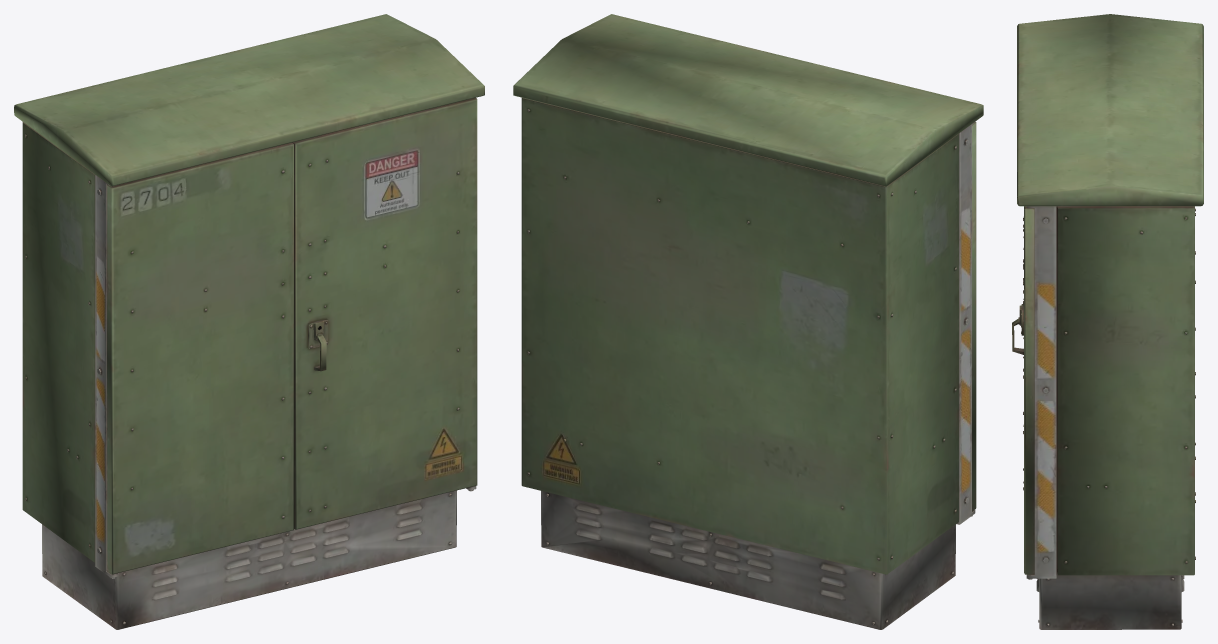
Rendered from utility_box_02.glb.
The picture shows the model from 3 angles, left to right: view 1: azimuth 30°, elevation 25°; view 2: azimuth 150°, elevation 25°; view 3: azimuth 270°, elevation 25°; orthographic projection. The views are drawn at different scales.
Visible parts, largest first — view 1: utility_box_02; view 2: utility_box_02; view 3: utility_box_02.
Part boxes in pixels (x1,y1,x2,y2): utility_box_02: [14, 14, 484, 629]; utility_box_02: [513, 14, 983, 629]; utility_box_02: [1012, 14, 1203, 629].
Size of the model in its own units: 0.92 by 1.12 by 0.4312.
1 material, 1 textured.
